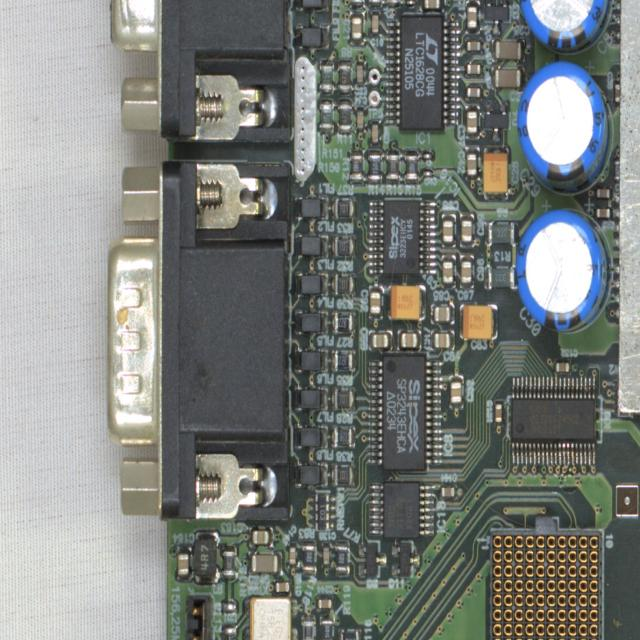IC: (368, 352, 442, 471), (385, 11, 458, 131), (507, 376, 602, 464), (368, 196, 436, 277), (368, 480, 434, 537)
capacitor: (247, 551, 283, 576), (491, 38, 525, 62), (490, 66, 524, 89), (447, 374, 465, 409), (367, 284, 384, 320), (175, 546, 192, 582), (396, 328, 422, 351), (458, 212, 474, 248), (349, 11, 365, 46), (465, 104, 481, 139), (440, 213, 456, 248), (430, 302, 454, 325), (458, 254, 474, 288), (440, 254, 456, 288), (465, 146, 480, 180), (368, 330, 393, 350), (248, 526, 273, 546), (465, 0, 480, 33), (463, 60, 483, 78), (464, 83, 482, 102), (553, 358, 572, 376), (272, 579, 292, 596), (369, 10, 382, 36), (438, 484, 458, 500), (288, 540, 299, 568), (493, 398, 503, 427), (420, 0, 444, 12), (354, 63, 366, 85), (321, 542, 331, 568), (465, 39, 482, 54), (355, 107, 365, 132), (370, 120, 379, 146), (316, 597, 333, 610), (594, 208, 610, 220), (613, 80, 620, 105), (596, 188, 610, 198)
clock: (243, 596, 297, 640)
component text: (385, 374, 420, 456), (402, 30, 438, 98), (388, 213, 413, 260), (258, 607, 284, 640), (199, 543, 209, 572), (469, 313, 485, 330), (396, 294, 413, 310), (399, 546, 408, 564), (318, 502, 326, 522), (495, 226, 508, 238), (337, 276, 348, 290), (494, 271, 506, 283), (337, 352, 347, 366), (337, 315, 347, 328), (371, 157, 378, 175), (338, 202, 348, 214), (338, 240, 348, 252), (338, 392, 348, 404), (338, 430, 348, 442), (341, 108, 348, 123), (338, 469, 347, 480), (340, 70, 347, 84), (305, 550, 312, 564), (324, 624, 331, 638), (352, 159, 359, 172), (365, 565, 374, 575), (408, 162, 416, 173), (338, 551, 344, 565), (400, 564, 408, 574), (343, 637, 355, 640)
connector: (105, 157, 294, 525), (107, 0, 293, 142), (490, 513, 601, 640)
diode: (391, 540, 421, 577), (358, 539, 387, 577)
electrolytic capacitor: (516, 60, 613, 195), (514, 208, 613, 332), (518, 0, 614, 54), (483, 146, 509, 201), (387, 284, 426, 320), (458, 304, 498, 338)
emi filter: (293, 460, 328, 488), (293, 24, 329, 51), (294, 270, 328, 296), (294, 308, 328, 334), (294, 424, 328, 448), (294, 349, 328, 372), (294, 386, 328, 409), (295, 234, 328, 257), (294, 196, 328, 218), (294, 0, 330, 13)
inductor: (193, 530, 220, 584)
jumper: (185, 587, 212, 640)
pads: (220, 599, 238, 638), (420, 148, 433, 178), (404, 0, 417, 10)
resistor: (308, 491, 335, 530), (484, 264, 518, 290), (484, 220, 516, 246), (220, 544, 238, 581), (366, 147, 382, 184), (348, 147, 363, 186), (334, 540, 350, 576), (403, 148, 419, 182), (319, 98, 334, 134), (385, 148, 400, 184), (331, 388, 356, 409), (331, 465, 356, 486), (331, 198, 357, 218), (330, 351, 356, 371), (319, 58, 333, 95), (331, 311, 355, 332), (331, 426, 356, 446), (337, 98, 352, 131), (332, 236, 356, 256), (302, 540, 316, 574), (338, 60, 352, 93), (332, 274, 356, 292), (300, 615, 316, 640), (320, 615, 334, 640), (338, 628, 362, 640), (386, 0, 402, 8), (368, 0, 383, 8), (348, 0, 364, 5), (222, 639, 236, 640)
test point: (367, 89, 381, 107), (367, 66, 380, 85)
transistor: (483, 99, 510, 142), (482, 0, 511, 36)
